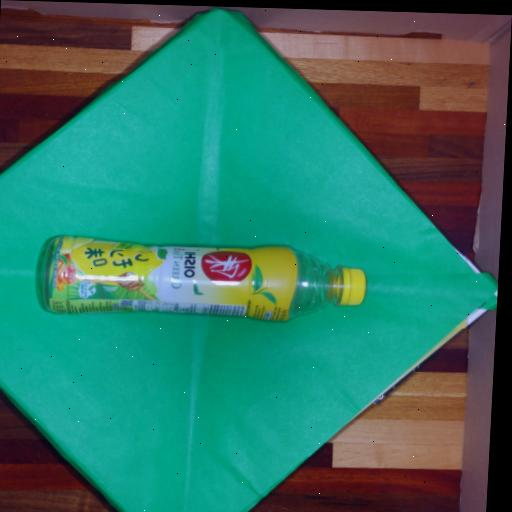bottle: (37, 234, 367, 323)
